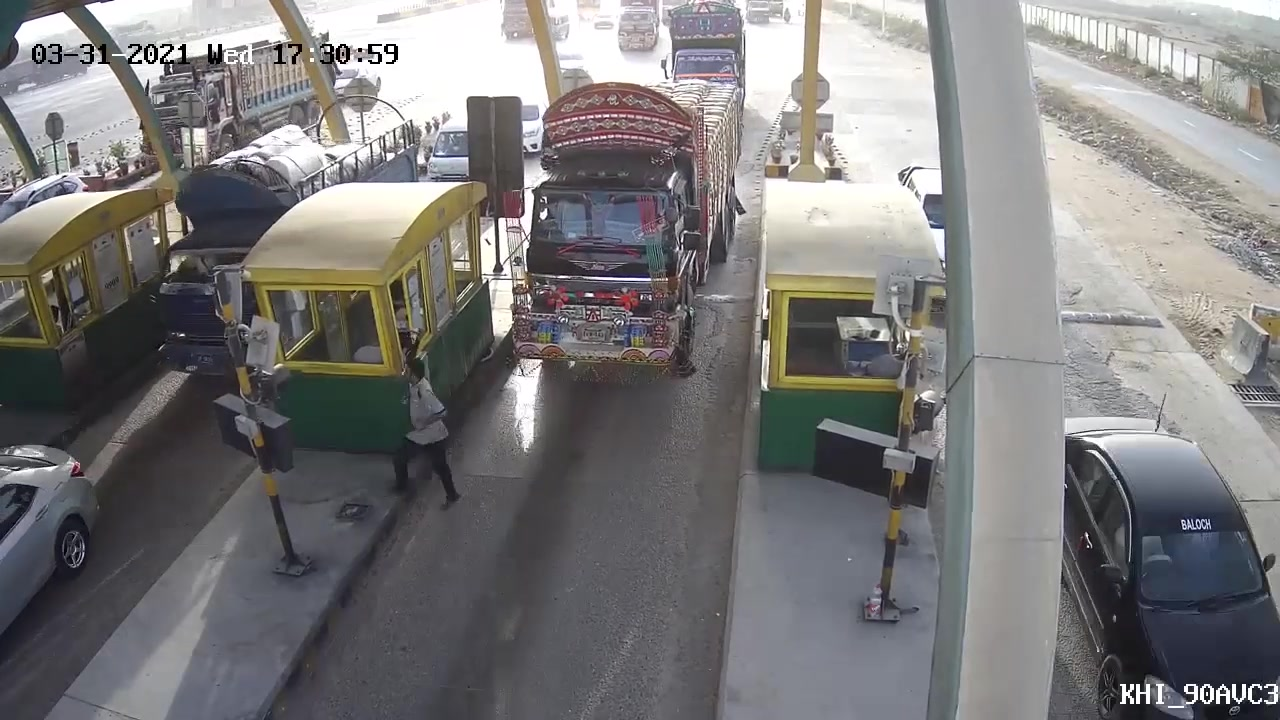F5: (509, 76, 750, 390)
